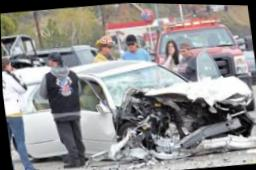Bonnet: (113, 72, 255, 118)
Bumper: (147, 105, 256, 155)
Door: (88, 112, 116, 149)
Light: (143, 113, 178, 122)
Windshield: (104, 65, 181, 101)
